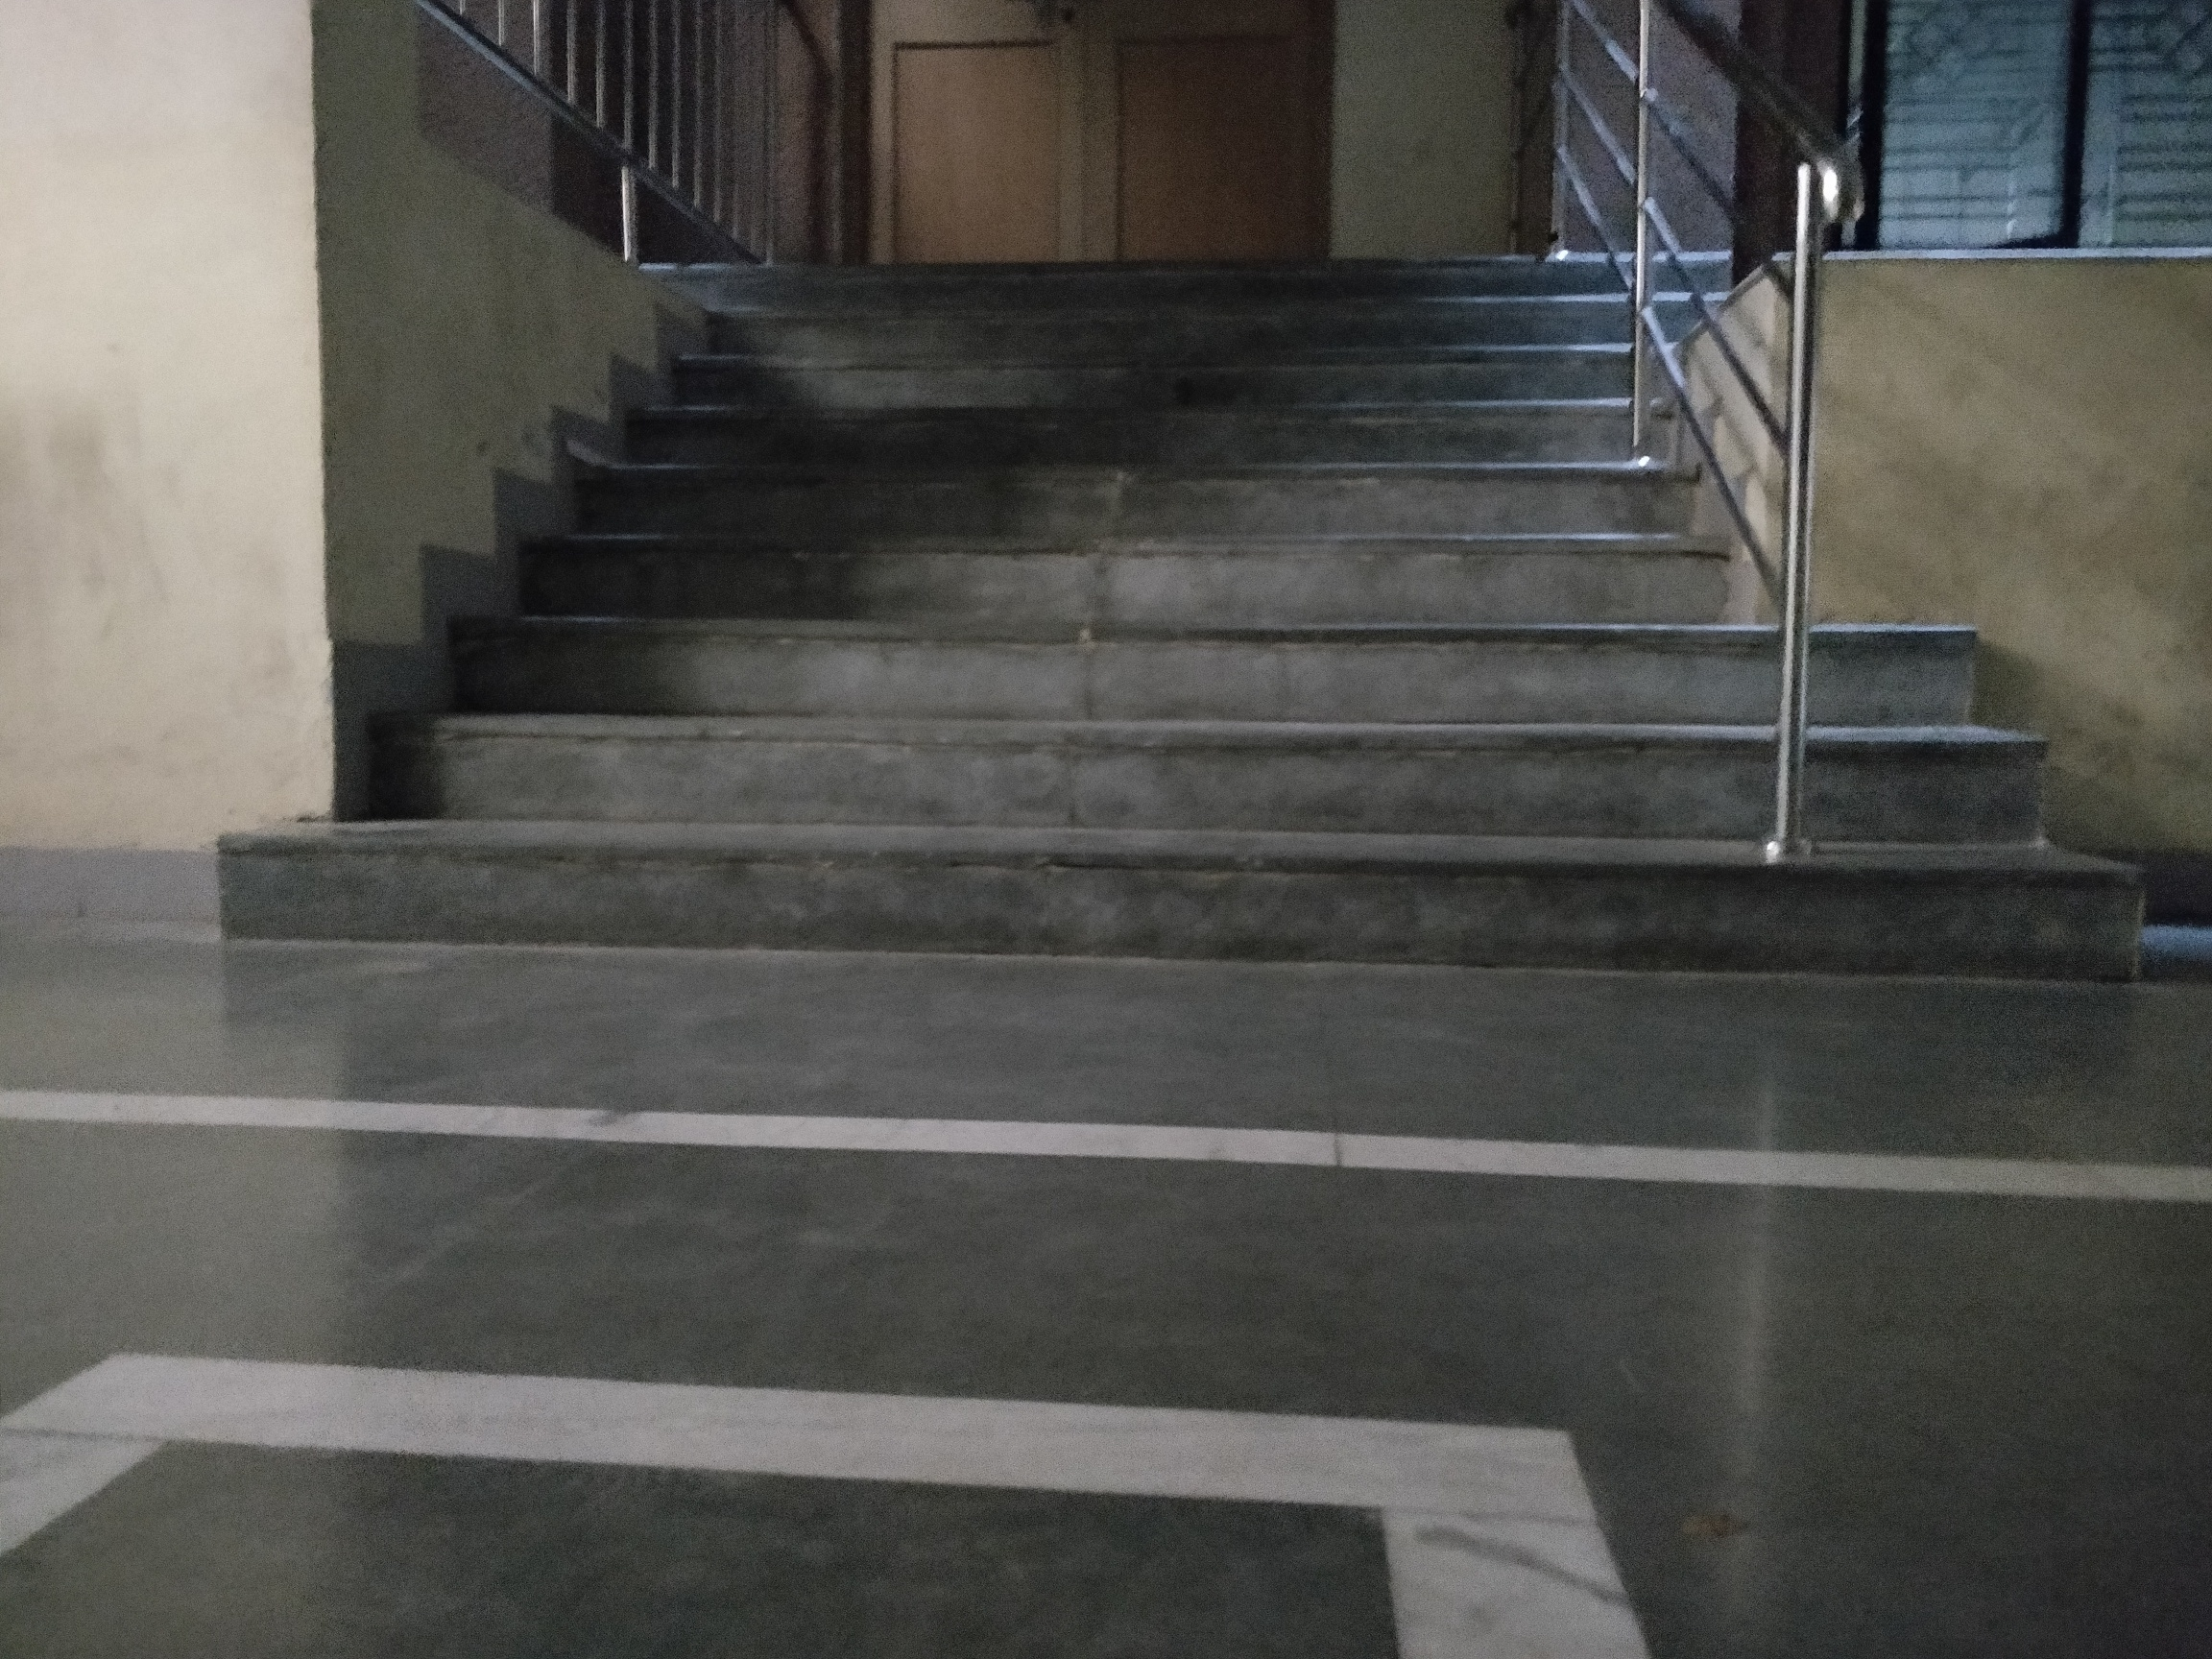stairs_up: (200, 227, 2165, 962)
